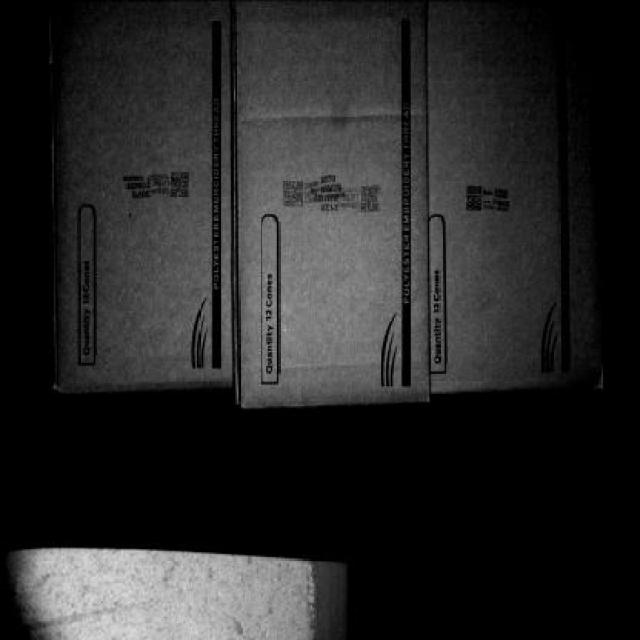cardboxes: (429, 0, 613, 394), (245, 4, 426, 402), (55, 3, 239, 394)
